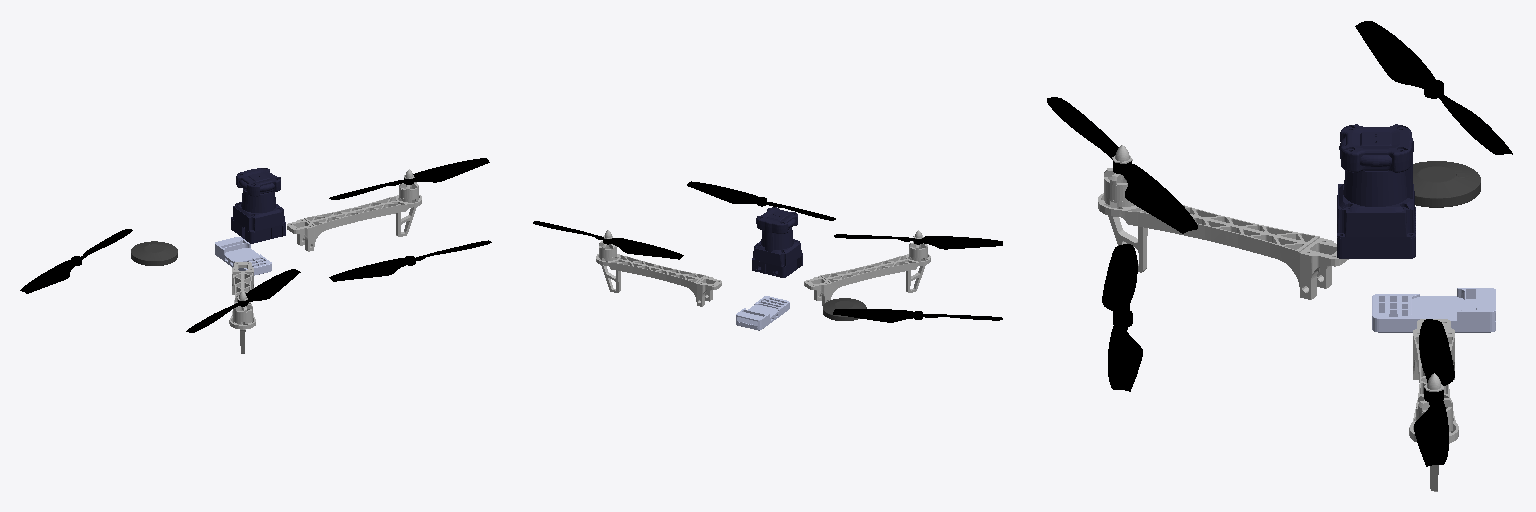
The robot description file, URDF, robot "f550":
<robot
  name="f550">
  <link
    name="base_link">
    <inertial>
      <origin
        xyz="0 0 0"
        rpy="0 0 0" />
      <mass
        value="1" />
      <inertia
        ixx="0.00067479"
        ixy="-6.0421E-07"
        ixz="-7.5099E-07"
        iyy="0.0010896"
        iyz="1.8163E-06"
        izz="0.00064988" />
    </inertial>
    <visual>
      <origin
        xyz="0 0 0"
        rpy="0 0 0" />
      <geometry>
        <mesh
          filename="package://f550/meshes/base_link.STL" />
      </geometry>
      <material
        name="">
        <color
          rgba="0.92941 0.92941 0.92941 1" />
      </material>
    </visual>
    <collision>
      <origin
        xyz="0 0 0"
        rpy="0 0 0" />
      <geometry>
        <mesh
          filename="package://f550/meshes/base_link.STL" />
      </geometry>
    </collision>
  </link>
  <link
    name="wing1">
    <inertial>
      <origin
        xyz="0.12144 -0.11968 0.038426"
        rpy="0 0 0" />
      <mass
        value="0.11819" />
      <inertia
        ixx="0.0003171"
        ixy="-0.00028167"
        ixz="-4.3423E-05"
        iyy="0.00031709"
        iyz="-4.3436E-05"
        izz="0.0005792" />
    </inertial>
    <visual>
      <origin
        xyz="0 0 0"
        rpy="0 0 0" />
      <geometry>
        <mesh
          filename="package://f550/meshes/wing1.STL" />
      </geometry>
      <material
        name="">
        <color
          rgba="0.75294 0.75294 0.75294 1" />
      </material>
    </visual>
    <collision>
      <origin
        xyz="0 0 0"
        rpy="0 0 0" />
      <geometry>
        <mesh
          filename="package://f550/meshes/wing1.STL" />
      </geometry>
    </collision>
  </link>
  <joint
    name="w1"
    type="fixed">
    <origin
      xyz="-0.219500442258882 -0.17050044149774 -0.0402465423967925"
      rpy="4.32963728535971E-17 4.32963728535964E-17 2.35619449019235" />
    <parent
      link="base_link" />
    <child
      link="wing1" />
    <axis
      xyz="0 0 0" />
  </joint>
  <link
    name="prop1">
    <inertial>
      <origin
        xyz="1.6083E-08 6.1968E-09 0.0078525"
        rpy="0 0 0" />
      <mass
        value="0.0091837" />
      <inertia
        ixx="3.009E-07"
        ixy="1.5042E-07"
        ixz="5.8166E-13"
        iyy="3.4024E-05"
        iyz="-7.7721E-14"
        izz="3.4239E-05" />
    </inertial>
    <visual>
      <origin
        xyz="0 0 0"
        rpy="0 0 0" />
      <geometry>
        <mesh
          filename="package://f550/meshes/prop1.STL" />
      </geometry>
      <material
        name="">
        <color
          rgba="0 0 0 1" />
      </material>
    </visual>
    <collision>
      <origin
        xyz="0 0 0"
        rpy="0 0 0" />
      <geometry>
        <mesh
          filename="package://f550/meshes/prop1.STL" />
      </geometry>
    </collision>
  </link>
  <joint
    name="p1"
    type="continuous">
    <origin
      xyz="0.159099025766974 -0.0820250109897306 0.0597327877613558"
      rpy="0 0 -1.92059574803774" />
    <parent
      link="wing1" />
    <child
      link="prop1" />
    <axis
      xyz="0 0 1" />
  </joint>
  <link
    name="wing2">
    <inertial>
      <origin
        xyz="0.12144 0.12144 0.038426"
        rpy="0 0 0" />
      <mass
        value="0.11819" />
      <inertia
        ixx="0.00031708"
        ixy="-0.00028166"
        ixz="-4.3423E-05"
        iyy="0.00031709"
        iyz="-4.3424E-05"
        izz="0.00057917" />
    </inertial>
    <visual>
      <origin
        xyz="0 0 0"
        rpy="0 0 0" />
      <geometry>
        <mesh
          filename="package://f550/meshes/wing2.STL" />
      </geometry>
      <material
        name="">
        <color
          rgba="0.75294 0.75294 0.75294 1" />
      </material>
    </visual>
    <collision>
      <origin
        xyz="0 0 0"
        rpy="0 0 0" />
      <geometry>
        <mesh
          filename="package://f550/meshes/wing2.STL" />
      </geometry>
    </collision>
  </link>
  <joint
    name="w2"
    type="fixed">
    <origin
      xyz="0.0479230484541336 0 -0.0402465423967926"
      rpy="-4.32963728535971E-17 -4.32963728535965E-17 -0.785398163397441" />
    <parent
      link="base_link" />
    <child
      link="wing2" />
    <axis
      xyz="0 0 0" />
  </joint>
  <link
    name="prop2">
    <inertial>
      <origin
        xyz="-6.06903996613894E-07 2.09895339214388E-08 0.00785142091305206"
        rpy="0 0 0" />
      <mass
        value="0.00919102949836486" />
      <inertia
        ixx="3.00756495521516E-07"
        ixy="-1.44553112000028E-07"
        ixz="7.8392478172389E-11"
        iyy="3.41061137513193E-05"
        iyz="-3.56044237665579E-12"
        izz="3.43204927897154E-05" />
    </inertial>
    <visual>
      <origin
        xyz="0 0 0"
        rpy="0 0 0" />
      <geometry>
        <mesh
          filename="package://f550/meshes/prop2.STL" />
      </geometry>
      <material
        name="">
        <color
          rgba="0 0 0 1" />
      </material>
    </visual>
    <collision>
      <origin
        xyz="0 0 0"
        rpy="0 0 0" />
      <geometry>
        <mesh
          filename="package://f550/meshes/prop2.STL" />
      </geometry>
    </collision>
  </link>
  <joint
    name="p2"
    type="continuous">
    <origin
      xyz="0.159099025766667 0.159099025766664 0.0597327877613558"
      rpy="0 0 0.785398163397441" />
    <parent
      link="wing2" />
    <child
      link="prop2" />
    <axis
      xyz="0 0 1" />
  </joint>
  <link
    name="wing3">
    <inertial>
      <origin
        xyz="0.12144 -0.11968 0.038426"
        rpy="0 0 0" />
      <mass
        value="0.11819" />
      <inertia
        ixx="0.0003171"
        ixy="-0.00028167"
        ixz="-4.3423E-05"
        iyy="0.00031709"
        iyz="-4.3436E-05"
        izz="0.0005792" />
    </inertial>
    <visual>
      <origin
        xyz="0 0 0"
        rpy="0 0 0" />
      <geometry>
        <mesh
          filename="package://f550/meshes/wing3.STL" />
      </geometry>
      <material
        name="">
        <color
          rgba="0.75294 0.75294 0.75294 1" />
      </material>
    </visual>
    <collision>
      <origin
        xyz="0 0 0"
        rpy="0 0 0" />
      <geometry>
        <mesh
          filename="package://f550/meshes/wing3.STL" />
      </geometry>
    </collision>
  </link>
  <joint
    name="w3"
    type="fixed">
    <origin
      xyz="0.258425755265039 -0.104255099483012 -0.0402465423967927"
      rpy="-1.37193120842531E-15 -5.91439452097321E-17 -1.83259571459404" />
    <parent
      link="base_link" />
    <child
      link="wing3" />
    <axis
      xyz="0 0 0" />
  </joint>
  <link
    name="prop3">
    <inertial>
      <origin
        xyz="6.73302480991289E-08 3.11284387155553E-10 0.00785252943141168"
        rpy="0 0 0" />
      <mass
        value="0.00918371361845548" />
      <inertia
        ixx="3.00899363978341E-07"
        ixy="1.50416409146065E-07"
        ixz="5.75790647060304E-12"
        iyy="3.40245137086448E-05"
        iyz="3.97946365003819E-13"
        izz="3.42389904138933E-05" />
    </inertial>
    <visual>
      <origin
        xyz="0 0 0"
        rpy="0 0 0" />
      <geometry>
        <mesh
          filename="package://f550/meshes/prop3.STL" />
      </geometry>
      <material
        name="">
        <color
          rgba="0 0 0 1" />
      </material>
    </visual>
    <collision>
      <origin
        xyz="0 0 0"
        rpy="0 0 0" />
      <geometry>
        <mesh
          filename="package://f550/meshes/prop3.STL" />
      </geometry>
    </collision>
  </link>
  <joint
    name="p3"
    type="continuous">
    <origin
      xyz="0.159099025766974 -0.0820250109897308 0.0597327877613557"
      rpy="-1.22388836600251E-17 -1.34049136553275E-15 1.83259571459404" />
    <parent
      link="wing3" />
    <child
      link="prop3" />
    <axis
      xyz="0 0 1" />
  </joint>
  <link
    name="wing4">
    <inertial>
      <origin
        xyz="0.12144 0.12144 0.038426"
        rpy="0 0 0" />
      <mass
        value="0.11819" />
      <inertia
        ixx="0.00031708"
        ixy="-0.00028166"
        ixz="-4.3423E-05"
        iyy="0.00031709"
        iyz="-4.3424E-05"
        izz="0.00057917" />
    </inertial>
    <visual>
      <origin
        xyz="0 0 0"
        rpy="0 0 0" />
      <geometry>
        <mesh
          filename="package://f550/meshes/wing4.STL" />
      </geometry>
      <material
        name="">
        <color
          rgba="0.594 0.411 0.388 1" />
      </material>
    </visual>
    <collision>
      <origin
        xyz="0 0 0"
        rpy="0 0 0" />
      <geometry>
        <mesh
          filename="package://f550/meshes/wing4.STL" />
      </geometry>
    </collision>
  </link>
  <joint
    name="w4"
    type="fixed">
    <origin
      xyz="-0.0229899261393952 0.043307086335355 -0.0402465423967929"
      rpy="-1.58475723561386E-17 5.91439452097364E-17 1.30899693899576" />
    <parent
      link="base_link" />
    <child
      link="wing4" />
    <axis
      xyz="0 0 0" />
  </joint>
  <link
    name="prop4">
    <inertial>
      <origin
        xyz="-6.17499109040187E-07 1.69915435055401E-08 0.00785142024101908"
        rpy="0 0 0" />
      <mass
        value="0.00919100505825974" />
      <inertia
        ixx="3.00756413802507E-07"
        ixy="-1.44552620063001E-07"
        ixz="7.84558787770827E-11"
        iyy="3.41061243643494E-05"
        iyz="-3.57114302807906E-12"
        izz="3.43205032762088E-05" />
    </inertial>
    <visual>
      <origin
        xyz="0 0 0"
        rpy="0 0 0" />
      <geometry>
        <mesh
          filename="package://f550/meshes/prop4.STL" />
      </geometry>
      <material
        name="">
        <color
          rgba="0.752941176470588 0 0 1" />
      </material>
    </visual>
    <collision>
      <origin
        xyz="0 0 0"
        rpy="0 0 0" />
      <geometry>
        <mesh
          filename="package://f550/meshes/prop4.STL" />
      </geometry>
    </collision>
  </link>
  <joint
    name="p4"
    type="continuous">
    <origin
      xyz="0.159099025766974 0.159099025766357 0.0597327877613558"
      rpy="0 0 -1.30899693899576" />
    <parent
      link="wing4" />
    <child
      link="prop4" />
    <axis
      xyz="0 0 1" />
  </joint>
  <link
    name="wing5">
    <inertial>
      <origin
        xyz="0.12144 0.12144 0.038426"
        rpy="0 0 0" />
      <mass
        value="0.11819" />
      <inertia
        ixx="0.00031708"
        ixy="-0.00028166"
        ixz="-4.3423E-05"
        iyy="0.00031709"
        iyz="-4.3424E-05"
        izz="0.00057917" />
    </inertial>
    <visual>
      <origin
        xyz="0 0 0"
        rpy="0 0 0" />
      <geometry>
        <mesh
          filename="package://f550/meshes/wing5.STL" />
      </geometry>
      <material
        name="">
        <color
          rgba="0.75294 0.75294 0.75294 1" />
      </material>
    </visual>
    <collision>
      <origin
        xyz="0 0 0"
        rpy="0 0 0" />
      <geometry>
        <mesh
          filename="package://f550/meshes/wing5.STL" />
      </geometry>
    </collision>
  </link>
  <joint
    name="w5"
    type="fixed">
    <origin
      xyz="-0.0251440484568347 -0.0420634032355138 -0.0402465423967926"
      rpy="5.9143945209736E-17 -7.09736962746862E-16 -2.87979326579064" />
    <parent
      link="base_link" />
    <child
      link="wing5" />
    <axis
      xyz="0 0 0" />
  </joint>
  <link
    name="prop5">
    <inertial>
      <origin
        xyz="-6.95645356985075E-07 1.7149377112835E-08 0.00785143154723994"
        rpy="0 0 0" />
      <mass
        value="0.00919099480486216" />
      <inertia
        ixx="3.00752111229346E-07"
        ixy="-1.44552434580939E-07"
        ixz="7.07667846431983E-11"
        iyy="3.41060666318963E-05"
        iyz="-3.03783252474656E-12"
        izz="3.43204418856938E-05" />
    </inertial>
    <visual>
      <origin
        xyz="0 0 0"
        rpy="0 0 0" />
      <geometry>
        <mesh
          filename="package://f550/meshes/prop5.STL" />
      </geometry>
      <material
        name="">
        <color
          rgba="0 0 0 1" />
      </material>
    </visual>
    <collision>
      <origin
        xyz="0 0 0"
        rpy="0 0 0" />
      <geometry>
        <mesh
          filename="package://f550/meshes/prop5.STL" />
      </geometry>
    </collision>
  </link>
  <joint
    name="p5"
    type="continuous">
    <origin
      xyz="0.159099025766974 0.159099025766357 0.0597327877613557"
      rpy="-9.91037528426906E-17 -6.86775751078402E-16 -2.99827901567927" />
    <parent
      link="wing5" />
    <child
      link="prop5" />
    <axis
      xyz="0 0 1" />
  </joint>
  <link
    name="wing6">
    <inertial>
      <origin
        xyz="0.12144 -0.11968 0.038426"
        rpy="0 0 0" />
      <mass
        value="0.11819" />
      <inertia
        ixx="0.0003171"
        ixy="-0.00028167"
        ixz="-4.3423E-05"
        iyy="0.00031709"
        iyz="-4.3436E-05"
        izz="0.0005792" />
    </inertial>
    <visual>
      <origin
        xyz="0 0 0"
        rpy="0 0 0" />
      <geometry>
        <mesh
          filename="package://f550/meshes/wing6.STL" />
      </geometry>
      <material
        name="">
        <color
          rgba="0.594 0.411 0.388 1" />
      </material>
    </visual>
    <collision>
      <origin
        xyz="0 0 0"
        rpy="0 0 0" />
      <geometry>
        <mesh
          filename="package://f550/meshes/wing6.STL" />
      </geometry>
    </collision>
  </link>
  <joint
    name="w6"
    type="fixed">
    <origin
      xyz="-0.0391362391482408 0.2748090405283 -0.0402465423967925"
      rpy="-5.9143945209736E-17 1.58475723561399E-17 0.261799387799158" />
    <parent
      link="base_link" />
    <child
      link="wing6" />
    <axis
      xyz="0 0 0" />
  </joint>
  <link
    name="prop6">
    <inertial>
      <origin
        xyz="1.4102E-06 -7.3846E-08 0.0078525"
        rpy="0 0 0" />
      <mass
        value="0.0091836" />
      <inertia
        ixx="3.0089E-07"
        ixy="1.5035E-07"
        ixz="6.9021E-12"
        iyy="3.4023E-05"
        iyz="-3.445E-13"
        izz="3.4238E-05" />
    </inertial>
    <visual>
      <origin
        xyz="0 0 0"
        rpy="0 0 0" />
      <geometry>
        <mesh
          filename="package://f550/meshes/prop6.STL" />
      </geometry>
      <material
        name="">
        <color
          rgba="0.50196 0 0 1" />
      </material>
    </visual>
    <collision>
      <origin
        xyz="0 0 0"
        rpy="0 0 0" />
      <geometry>
        <mesh
          filename="package://f550/meshes/prop6.STL" />
      </geometry>
    </collision>
  </link>
  <joint
    name="p6"
    type="continuous">
    <origin
      xyz="0.159099025766974 -0.0820250109897306 0.0597327877613558"
      rpy="0 0 -2.70619330605538" />
    <parent
      link="wing6" />
    <child
      link="prop6" />
    <axis
      xyz="0 0 1" />
  </joint>
  <link
    name="fcu_px2">
    <inertial>
      <origin
        xyz="0.002093 0.00024832 -0.0059171"
        rpy="0 0 0" />
      <mass
        value="0.25" />
      <inertia
        ixx="7.9881E-06"
        ixy="1.4254E-07"
        ixz="9.5267E-07"
        iyy="3.4253E-05"
        iyz="-1.0276E-08"
        izz="4.0844E-05" />
    </inertial>
    <visual>
      <origin
        xyz="0 0 0"
        rpy="0 0 0" />
      <geometry>
        <mesh
          filename="package://f550/meshes/fcu_px2.STL" />
      </geometry>
      <material
        name="">
        <color
          rgba="0.79216 0.81961 0.93333 1" />
      </material>
    </visual>
    <collision>
      <origin
        xyz="0 0 0"
        rpy="0 0 0" />
      <geometry>
        <mesh
          filename="package://f550/meshes/fcu_px2.STL" />
      </geometry>
    </collision>
  </link>
  <joint
    name="fcu_fix"
    type="fixed">
    <origin
      xyz="0 0 -0.0394965423967926"
      rpy="3.14159265358979 6.12303176911189E-17 1.5707963267949" />
    <parent
      link="base_link" />
    <child
      link="fcu_px2" />
    <axis
      xyz="0 0 0" />
  </joint>
  <link
    name="gps_here">
    <inertial>
      <origin
        xyz="-1.3121E-06 -6.68E-05 0.0084082"
        rpy="0 0 0" />
      <mass
        value="0.0" />
      <inertia
        ixx="2.9868E-05"
        ixy="-1.0411E-10"
        ixz="5.0539E-11"
        iyy="2.9724E-05"
        iyz="4.7726E-08"
        izz="5.5952E-05" />
    </inertial>
    <visual>
      <origin
        xyz="0 0 0"
        rpy="0 0 0" />
      <geometry>
        <mesh
          filename="package://f550/meshes/gps_here.STL" />
      </geometry>
      <material
        name="">
        <color
          rgba="0.3 0.3 0.3 1" />
      </material>
    </visual>
    <collision>
      <origin
        xyz="0 0 0"
        rpy="0 0 0" />
      <geometry>
        <mesh
          filename="package://f550/meshes/gps_here.STL" />
      </geometry>
    </collision>
  </link>
  <joint
    name="fcu2gps_fix"
    type="fixed">
    <origin
      xyz="0.00198507835763108 -0.145 -0.0379965423967927"
      rpy="3.14159265358979 -1.3010426069826E-16 -1.5707963267949" />
    <parent
      link="fcu_px2" />
    <child
      link="gps_here" />
    <axis
      xyz="0 0 0" />
  </joint>
  <link
    name="lrf_horizontal">
    <inertial>
      <origin
        xyz="2.3187E-06 -0.029952 0.0217"
        rpy="0 0 0" />
      <mass
        value="0.1926" />
      <inertia
        ixx="0.00023701"
        ixy="-5.7242E-08"
        ixz="6.8532E-09"
        iyy="0.00023618"
        iyz="-2.9987E-06"
        izz="0.00014751" />
    </inertial>
    <visual>
      <origin
        xyz="0 0 0"
        rpy="0 0 0" />
      <geometry>
        <mesh
          filename="package://f550/meshes/lrf_horizontal.STL" />
      </geometry>
      <material
        name="">
        <color
          rgba="0.176 0.176 0.275 1" />
      </material>
    </visual>
    <collision>
      <origin
        xyz="0 0 0"
        rpy="0 0 0" />
      <geometry>
        <mesh
          filename="package://f550/meshes/lrf_horizontal.STL" />
      </geometry>
    </collision>
  </link>
  <joint
    name="lrf_fix"
    type="fixed">
    <origin
      xyz="0 -0.014180598689214 0.026"
      rpy="-6.12303176911189E-17 0 0" />
    <parent
      link="base_link" />
    <child
      link="lrf_horizontal" />
    <axis
      xyz="0 -1 0" />
  </joint>
  <link
    name="odroid_xu4">
    <inertial>
      <origin
        xyz="0.0057413 0.00030748 -0.0052843"
        rpy="0 0 0" />
      <mass
        value="0.08" />
      <inertia
        ixx="4.4834E-06"
        ixy="3.2726E-07"
        ixz="1.7419E-07"
        iyy="6.5755E-06"
        iyz="1.4639E-08"
        izz="1.0308E-05" />
    </inertial>
    <visual>
      <origin
        xyz="0 0 0"
        rpy="0 0 0" />
      <geometry>
        <mesh
          filename="package://f550/meshes/odroid_xu4.STL" />
      </geometry>
      <material
        name="">
        <color
          rgba="0 0.1 0.45 1" />
      </material>
    </visual>
    <collision>
      <origin
        xyz="0 0 0"
        rpy="0 0 0" />
      <geometry>
        <mesh
          filename="package://f550/meshes/odroid_xu4.STL" />
      </geometry>
    </collision>
  </link>
  <joint
    name="base2odroid_fix"
    type="fixed">
    <origin
      xyz="0 0.0265 0.038"
      rpy="3.14159265358979 -6.12303176911189E-17 -1.5707963267949" />
    <parent
      link="base_link" />
    <child
      link="odroid_xu4" />
    <axis
      xyz="0 0 0" />
  </joint>
</robot>

--- Facts derived from the render (not from the file) ---
3 views of the same robot in one strip: view 1: azimuth 30°, elevation 25°; view 2: azimuth 150°, elevation 25°; view 3: azimuth 270°, elevation 25° (orthographic).
Model f550 with 17 links and 16 joints (6 continuous, 10 fixed), rooted at base_link, posed every joint at zero.
Visible links, largest first — view 1: lrf_horizontal, wing2, wing5, prop3, prop2, fcu_px2, prop1, prop5, gps_here; view 2: lrf_horizontal, wing2, wing5, prop1, fcu_px2, prop3, prop5, prop2, gps_here; view 3: lrf_horizontal, wing5, fcu_px2, prop1, prop3, prop5, prop2, gps_here, wing2.
Link boxes in pixels (box(x1,y1,x2,y2)): lrf_horizontal: box(231, 168, 285, 243); wing2: box(287, 169, 421, 251); wing5: box(229, 262, 255, 353); prop3: box(329, 240, 491, 281); prop2: box(329, 158, 489, 199); fcu_px2: box(215, 237, 271, 275); prop1: box(20, 229, 132, 293); prop5: box(186, 269, 300, 332); gps_here: box(131, 241, 177, 265); lrf_horizontal: box(752, 207, 802, 277); wing2: box(596, 230, 721, 306); wing5: box(804, 230, 930, 305); prop1: box(833, 309, 1002, 322); fcu_px2: box(736, 296, 789, 330); prop3: box(687, 181, 835, 220); prop5: box(834, 234, 1002, 249); prop2: box(533, 221, 683, 259); gps_here: box(823, 298, 866, 320); lrf_horizontal: box(1337, 124, 1415, 258); wing5: box(1098, 145, 1348, 299); fcu_px2: box(1372, 288, 1495, 332); prop1: box(1355, 21, 1512, 154); prop3: box(1102, 244, 1142, 391); prop5: box(1047, 97, 1197, 233); prop2: box(1414, 319, 1454, 466); gps_here: box(1413, 161, 1480, 207); wing2: box(1409, 319, 1458, 491).
Bounding box of the posed robot: 0.7975 × 0.3548 × 0.1715 m (x, y, z).
9 mesh visuals loaded from 17 distinct referenced files (9 binary STL); not drawn: 8 (reference not matched to a file when rendering).